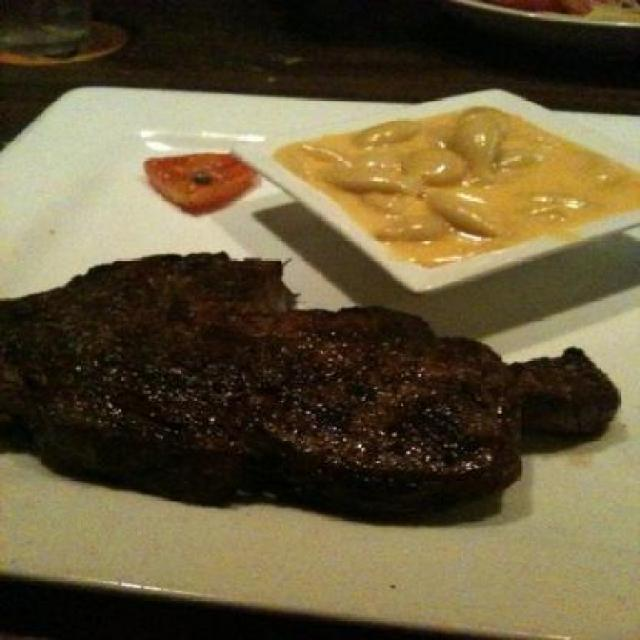Steak: (29, 244, 594, 512)
